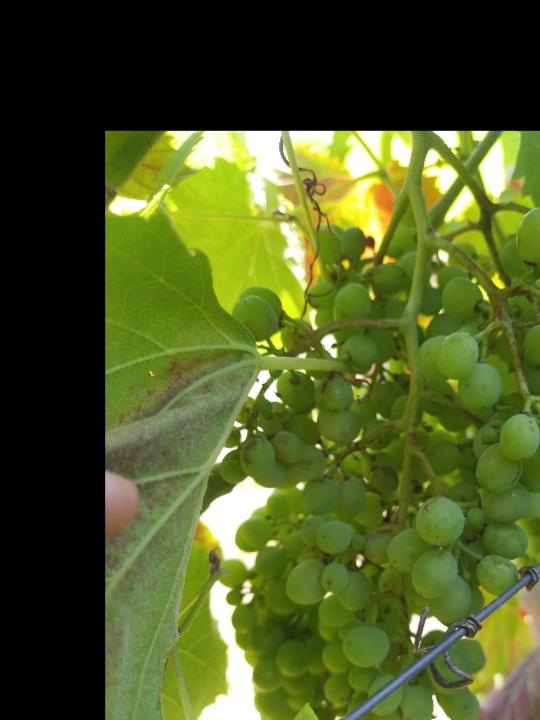grape: (218, 191, 540, 720)
